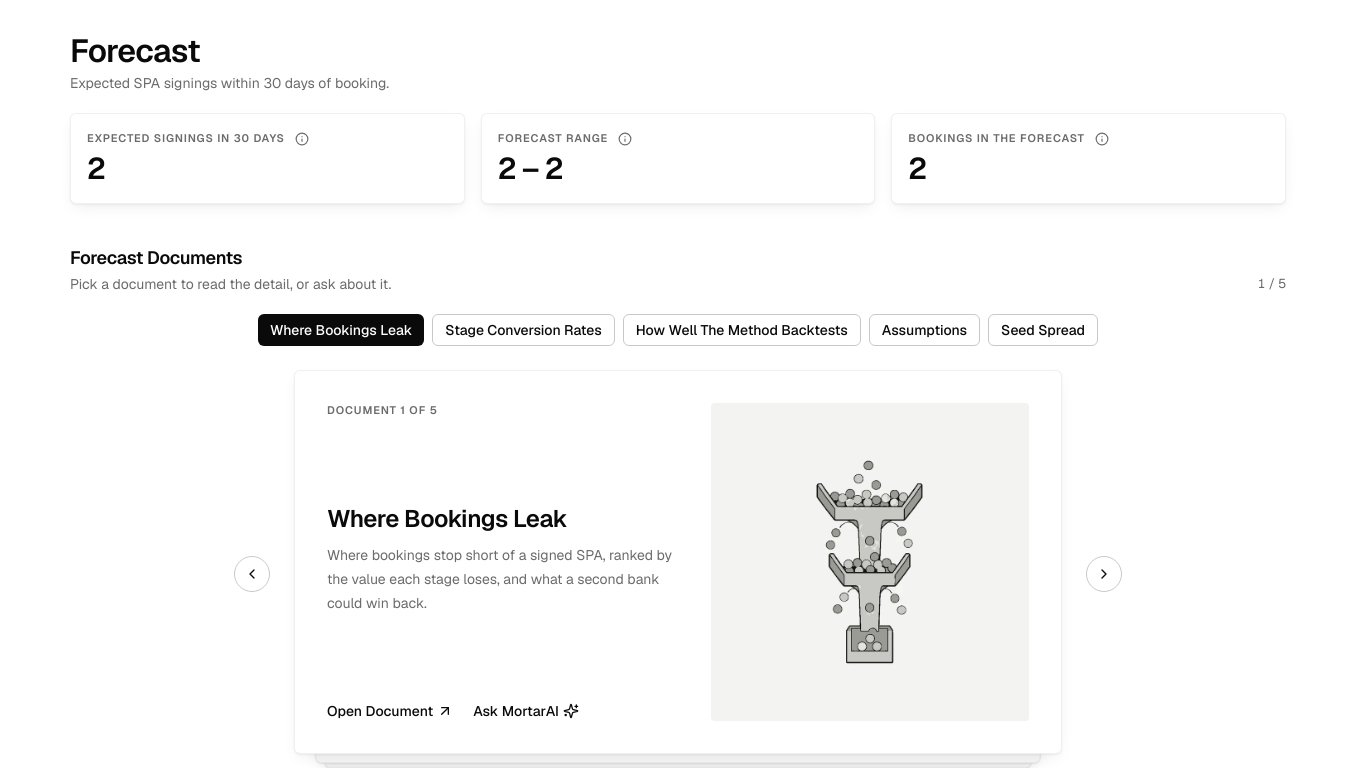
Test case: ForecastPage › lets the manager run another browser-only seed beside the canonical run
The image size is (1366, 768).
Click the button "Seed Spread": [1043, 330] box [988, 314, 1098, 346]
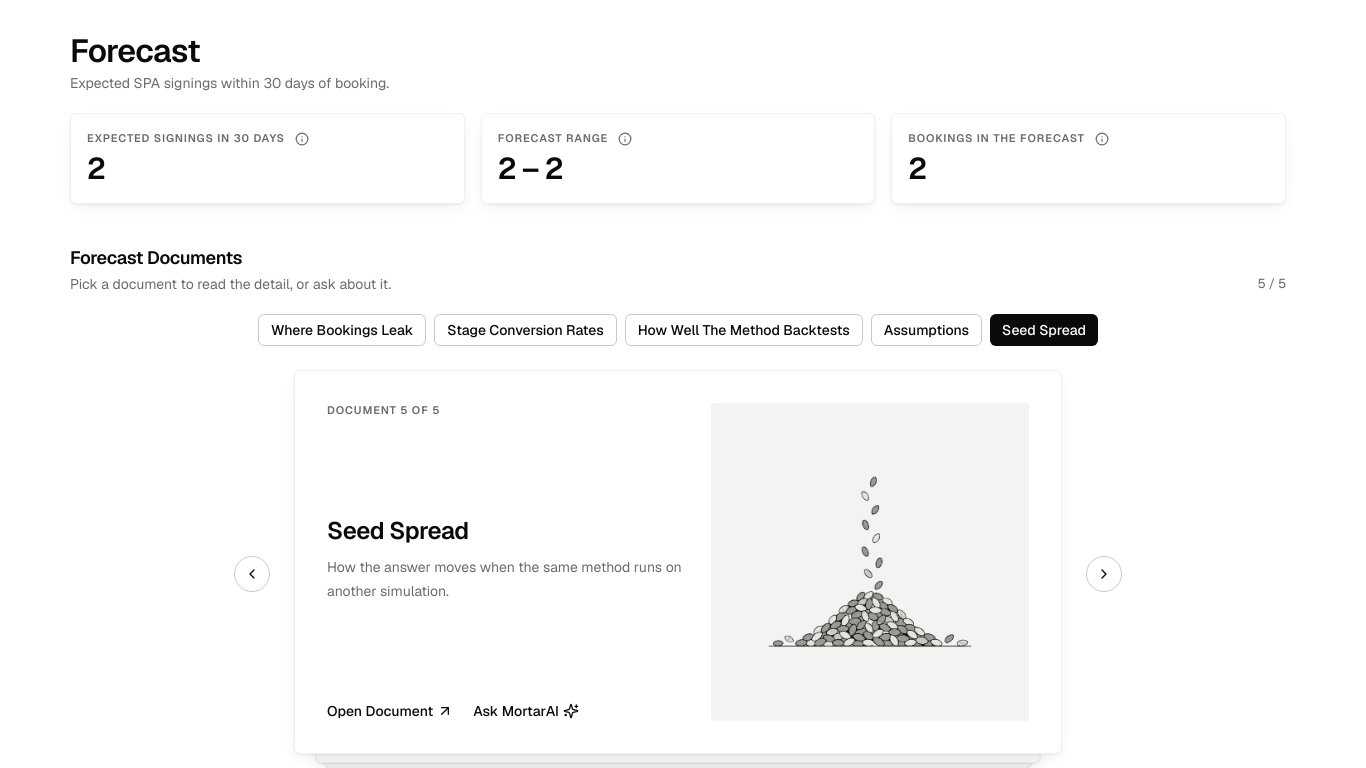
Click the button "Open Document": [390, 711] box [327, 701, 453, 721]
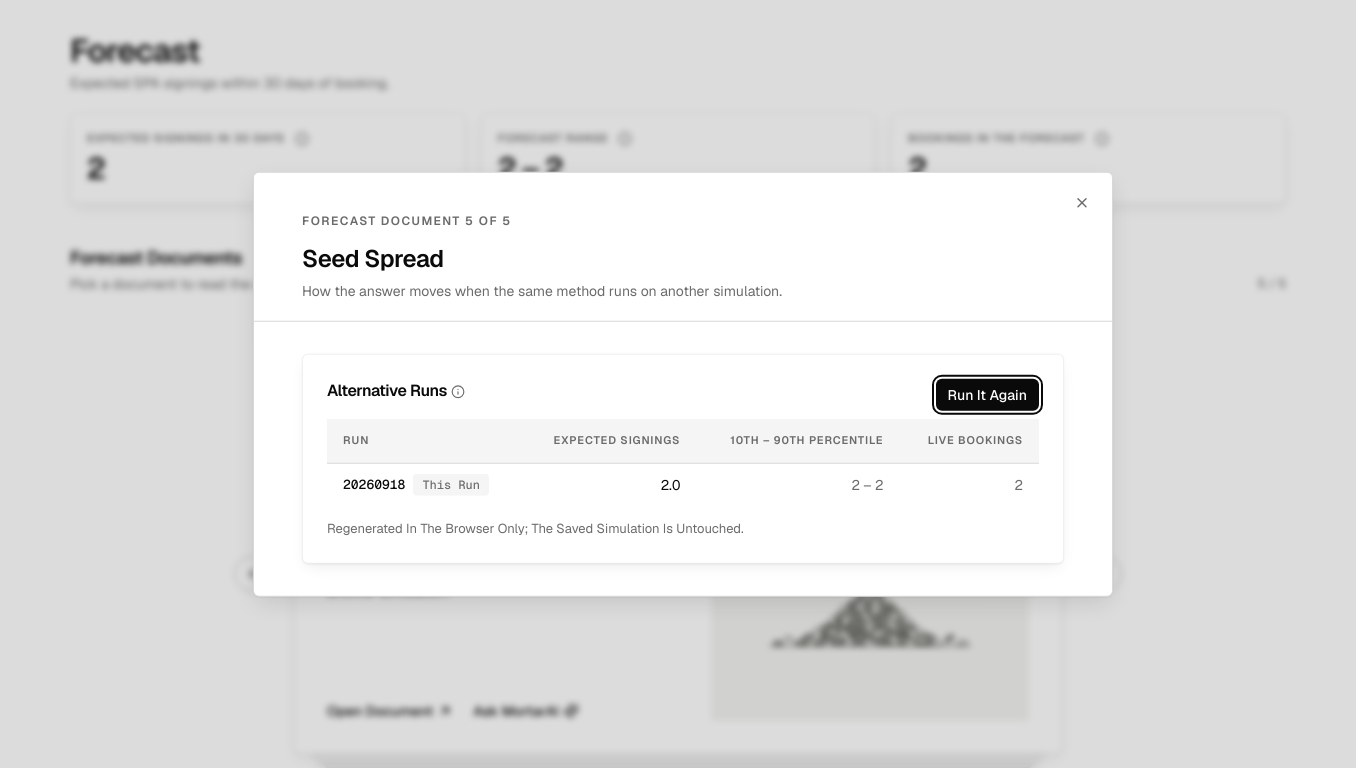
Click the button "Run It Again": [987, 395] box [936, 379, 1039, 411]
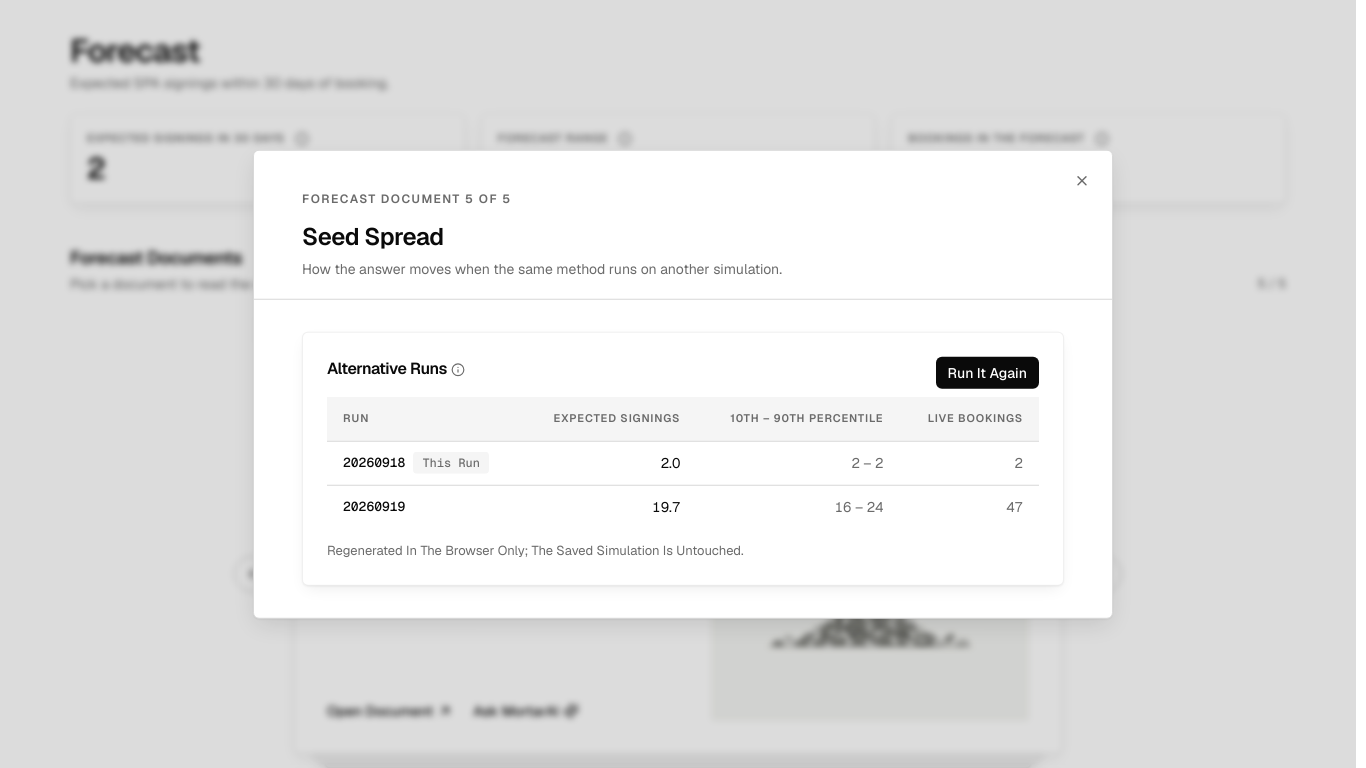
expect the text "This Run" is shown: met, box [413, 452, 489, 474]
expect the text "Regenerated In The Browser Only; The Saved Simulation Is Untouched." is shown: met, box [327, 542, 744, 559]
expect the text "20260919" is shown: met, box [327, 485, 522, 529]
